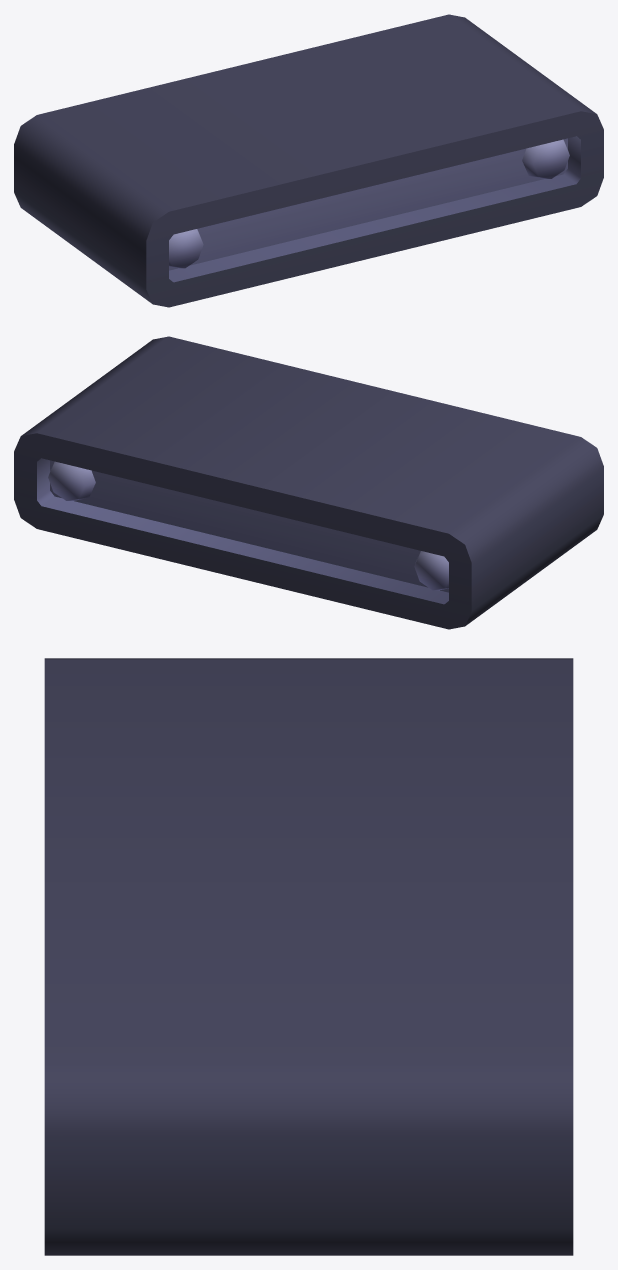
Rendered from conveyor-long.glb.
The picture shows the model from 3 angles, top to bottom: view 1: azimuth 30°, elevation 25°; view 2: azimuth 150°, elevation 25°; view 3: azimuth 270°, elevation 25°; orthographic projection. The views are drawn at different scales.
Visible parts, largest first — view 1: conveyor-long; view 2: conveyor-long; view 3: conveyor-long.
Boxes of the visible parts, box(x1,y1,x2,y2) form: conveyor-long: box(14, 14, 603, 307); conveyor-long: box(14, 336, 603, 629); conveyor-long: box(44, 658, 573, 1255).
Size of the model in its own units: 2 by 0.3999 by 1.
Materials: 1 (1 with a texture image).
